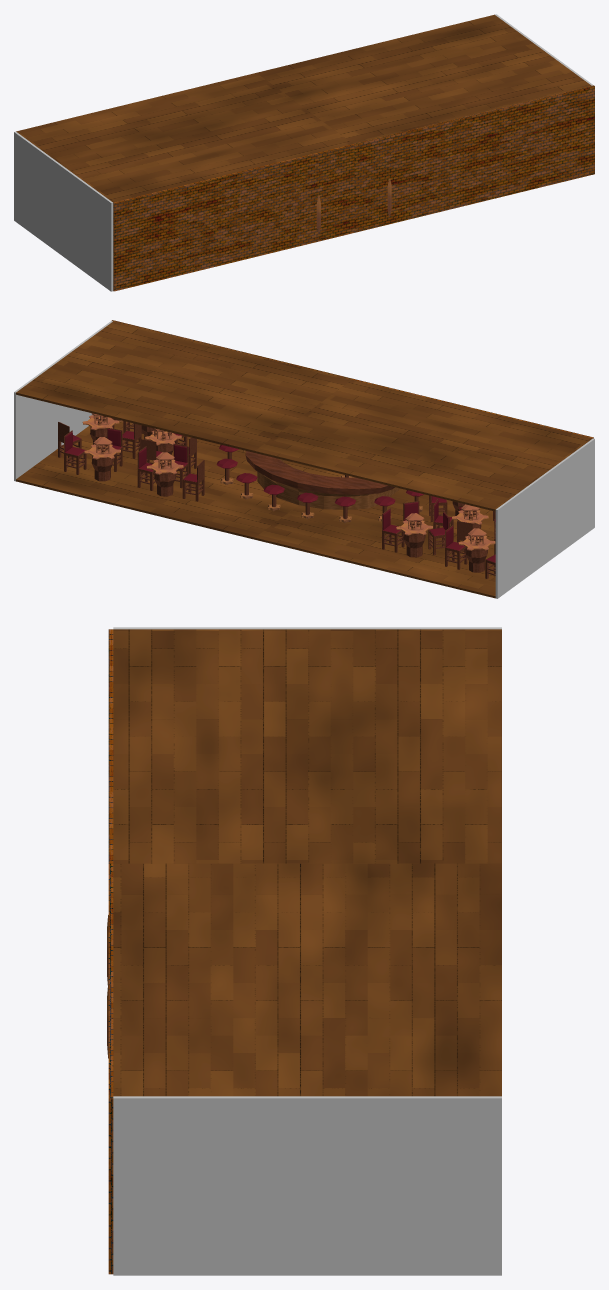
Rendered from EnteranceRoom.fbx.
3 views of the same model, one above another, from view 1: azimuth 30°, elevation 25°; view 2: azimuth 150°, elevation 25°; view 3: azimuth 270°, elevation 25° (orthographic). The views are drawn at different scales.
Parts seen in each view (by area): view 1: Cube.001, BackWall, SideWall2; view 2: Cube.001, Ground, SideWall2, Counter, SideWall1, BackWall, Chair.016, Chair.009, Chair.013, Chair.010, Chair.015, Chair.014 (+7 smaller); view 3: Cube.001, SideWall1, BackWall, SideWall2.
Boxes of the visible parts, box(x1,y1,x2,y2) form: Cube.001: box(16, 14, 591, 202); BackWall: box(113, 85, 594, 291); SideWall2: box(14, 131, 113, 291); Cube.001: box(16, 321, 592, 511); Ground: box(16, 421, 495, 598); SideWall2: box(495, 438, 594, 598); Counter: box(245, 451, 400, 509); SideWall1: box(14, 321, 112, 481); BackWall: box(111, 320, 593, 438); Chair.016: box(64, 430, 86, 474); Chair.009: box(445, 525, 467, 569); Chair.013: box(182, 460, 204, 501); Chair.010: box(382, 508, 404, 552); Chair.015: box(137, 446, 155, 490); Chair.014: box(173, 444, 188, 488); Cube.001: box(113, 629, 501, 1096); SideWall1: box(113, 1096, 501, 1275); BackWall: box(108, 629, 113, 1274); SideWall2: box(113, 627, 501, 629).
Size of the model in its own units: 1551 by 272 by 550.
